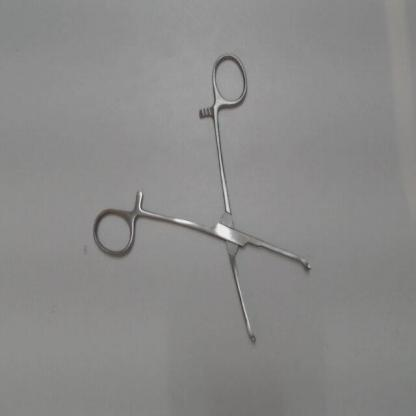Allis Tissue Forceps: (89, 44, 323, 356)
